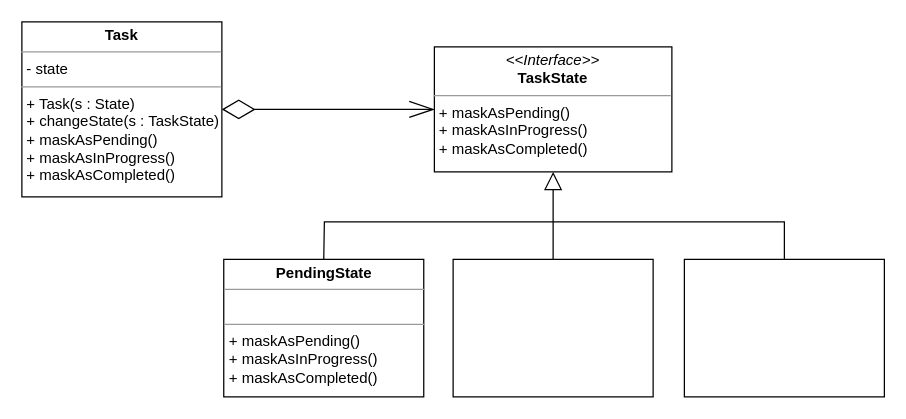
Image size: 906x419. Some labels were removed from this diagram. The centre of each missing label's shape, as x and y in pixels:
"CompletedState + maskAsPending() + maskAsInProgress() + maskAsCompleted()" belongs at point 783,327.
"InProgressState + maskAsPending() + maskAsInProgress() + maskAsCompleted()" belongs at point 552,327.
